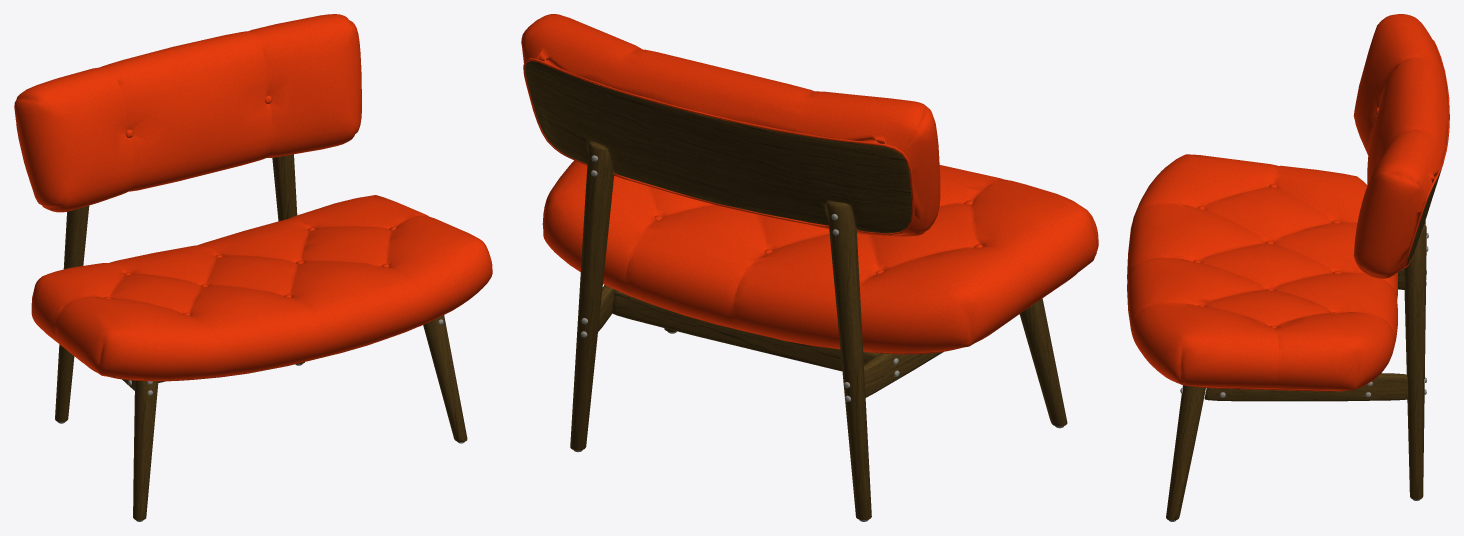
Rendered from poltrona.glb.
The picture shows the model from 3 angles, left to right: view 1: azimuth 30°, elevation 25°; view 2: azimuth 150°, elevation 25°; view 3: azimuth 270°, elevation 25°; orthographic projection. The views are drawn at different scales.
Visible parts, largest first — view 1: SheenChair_fabric, SheenChair_wood; view 2: SheenChair_fabric, SheenChair_wood; view 3: SheenChair_fabric, SheenChair_wood.
Boxes of the visible parts, bbox=[...] form: SheenChair_fabric: bbox=[14, 14, 492, 381]; SheenChair_wood: bbox=[55, 154, 467, 520]; SheenChair_fabric: bbox=[521, 14, 1098, 354]; SheenChair_wood: bbox=[525, 61, 1067, 520]; SheenChair_fabric: bbox=[1127, 14, 1449, 391]; SheenChair_wood: bbox=[1166, 169, 1441, 520].
Size of the model in its own units: 0.8265 by 0.6863 by 0.57.
4 materials, 3 textured.
